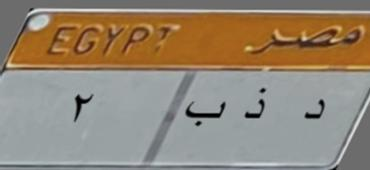2: (62, 86, 97, 133)
baa: (184, 94, 235, 130)
daal: (299, 91, 333, 133)
zaal: (239, 83, 278, 125)
